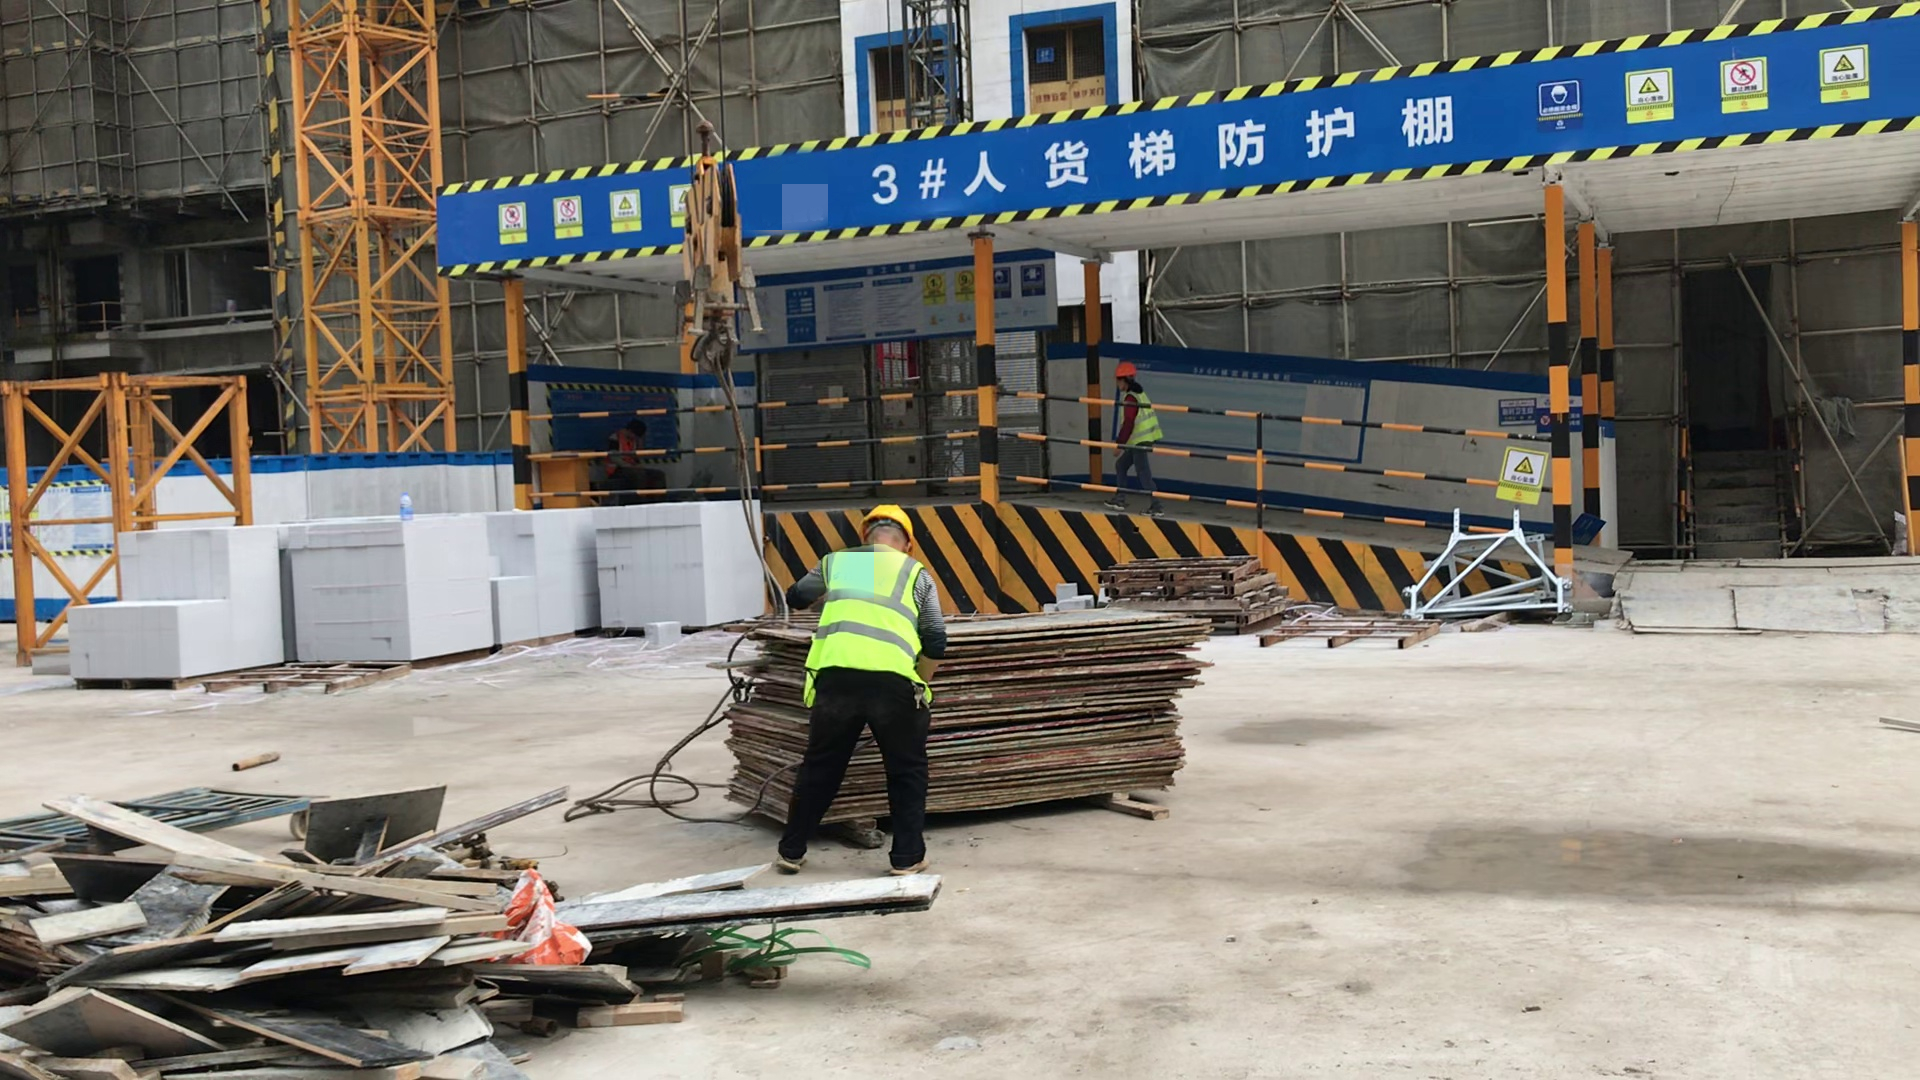board: (736, 621, 1212, 816)
brick: (286, 512, 601, 649), (58, 526, 284, 686), (583, 504, 763, 623)
ebox: (535, 454, 592, 505)
handcart: (1, 783, 314, 861)
helmet: (852, 504, 915, 545), (1113, 362, 1142, 381)
hook: (664, 125, 753, 373)
person: (790, 493, 924, 877), (1105, 354, 1164, 516), (600, 416, 667, 491)
slogan: (868, 89, 1461, 223), (1536, 39, 1879, 135), (497, 190, 644, 242), (1497, 440, 1548, 511)
vest: (809, 546, 928, 701), (1119, 392, 1160, 445), (605, 430, 638, 470)
